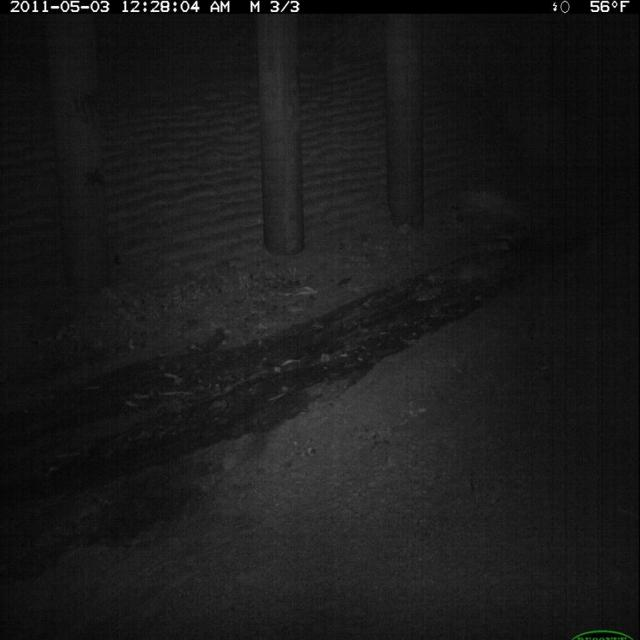opossum: (432, 258, 501, 301)
